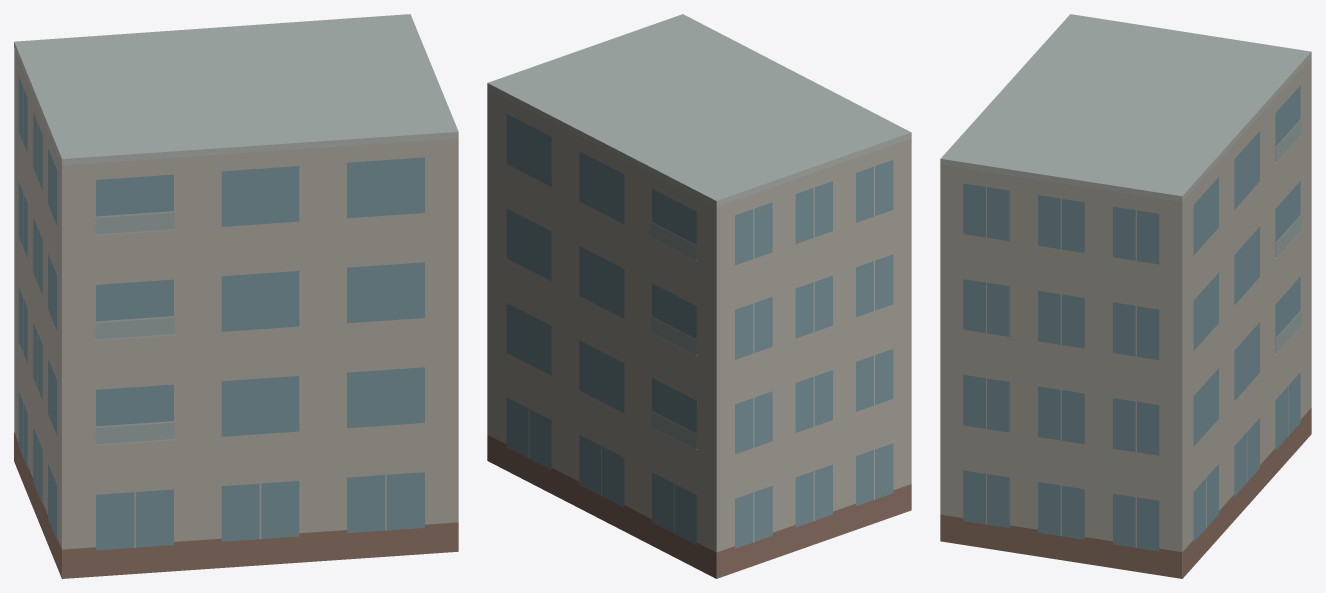
Rendered from survey-upis-32487845.glb.
3 views of the same model, side by side, from view 1: azimuth 30°, elevation 25°; view 2: azimuth 150°, elevation 25°; view 3: azimuth 270°, elevation 25° (orthographic). The views are drawn at different scales.
Parts seen in each view (by area): view 1: survey-upis-32487845.tmp; view 2: survey-upis-32487845.tmp; view 3: survey-upis-32487845.tmp.
Boxes of the visible parts, x1,y1,x2,y2 form: survey-upis-32487845.tmp: (14, 14, 458, 578); survey-upis-32487845.tmp: (487, 14, 911, 578); survey-upis-32487845.tmp: (940, 14, 1311, 578).
Bounding box in the file's own units: 16.36 × 16 × 14.07.
